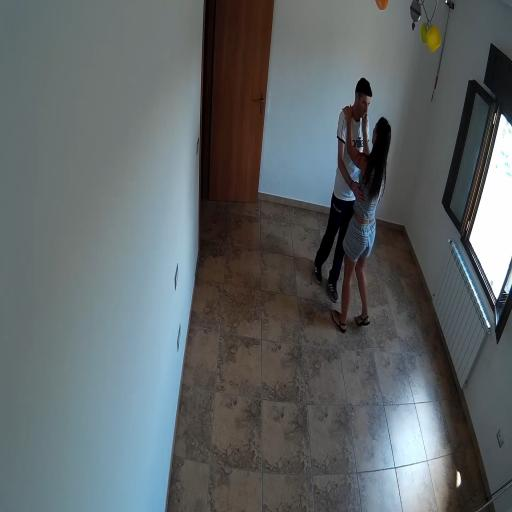nao-violencia: (309, 72, 396, 336)
